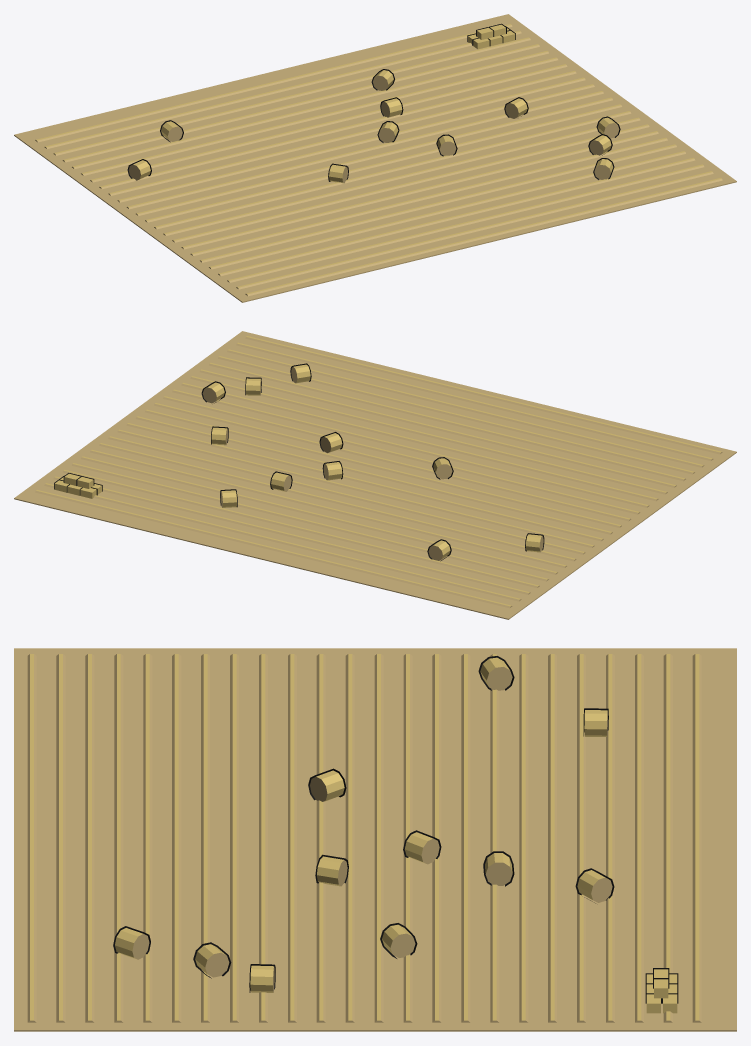
The model's file is Kir_alan_saman_1.fbx.
The picture shows the model from 3 angles, top to bottom: view 1: azimuth 30°, elevation 25°; view 2: azimuth 150°, elevation 25°; view 3: azimuth 270°, elevation 25°; orthographic projection. The views are drawn at different scales.
Visible parts, largest first — view 1: Kir_alan_saman_1; view 2: Kir_alan_saman_1; view 3: Kir_alan_saman_1.
Part boxes in pixels (x1=…): Kir_alan_saman_1: x1=14, y1=14, x2=736, y2=302; Kir_alan_saman_1: x1=14, y1=331, x2=736, y2=619; Kir_alan_saman_1: x1=14, y1=648, x2=736, y2=1031.
Bounding box in the file's own units: 50 × 1.65 × 40.
